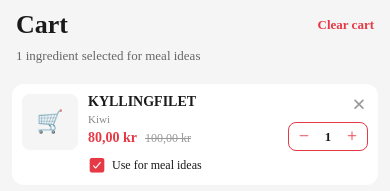
Test case: CartScreen › shows the meal-idea selection summary and toggling updates the count
The image size is (390, 191).
Expected: the text "1 ingredient selected for meal ideas" is shown, [16,48,200,63]
Click the element with test id "meal-idea-toggle" at (145, 165), box [88,156,202,174]
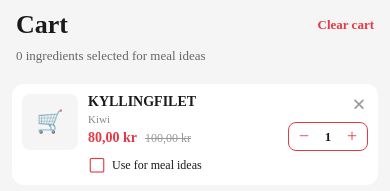
Expected: the text "0 ingredients selected for meal ideas" is shown, [16,48,206,63]
